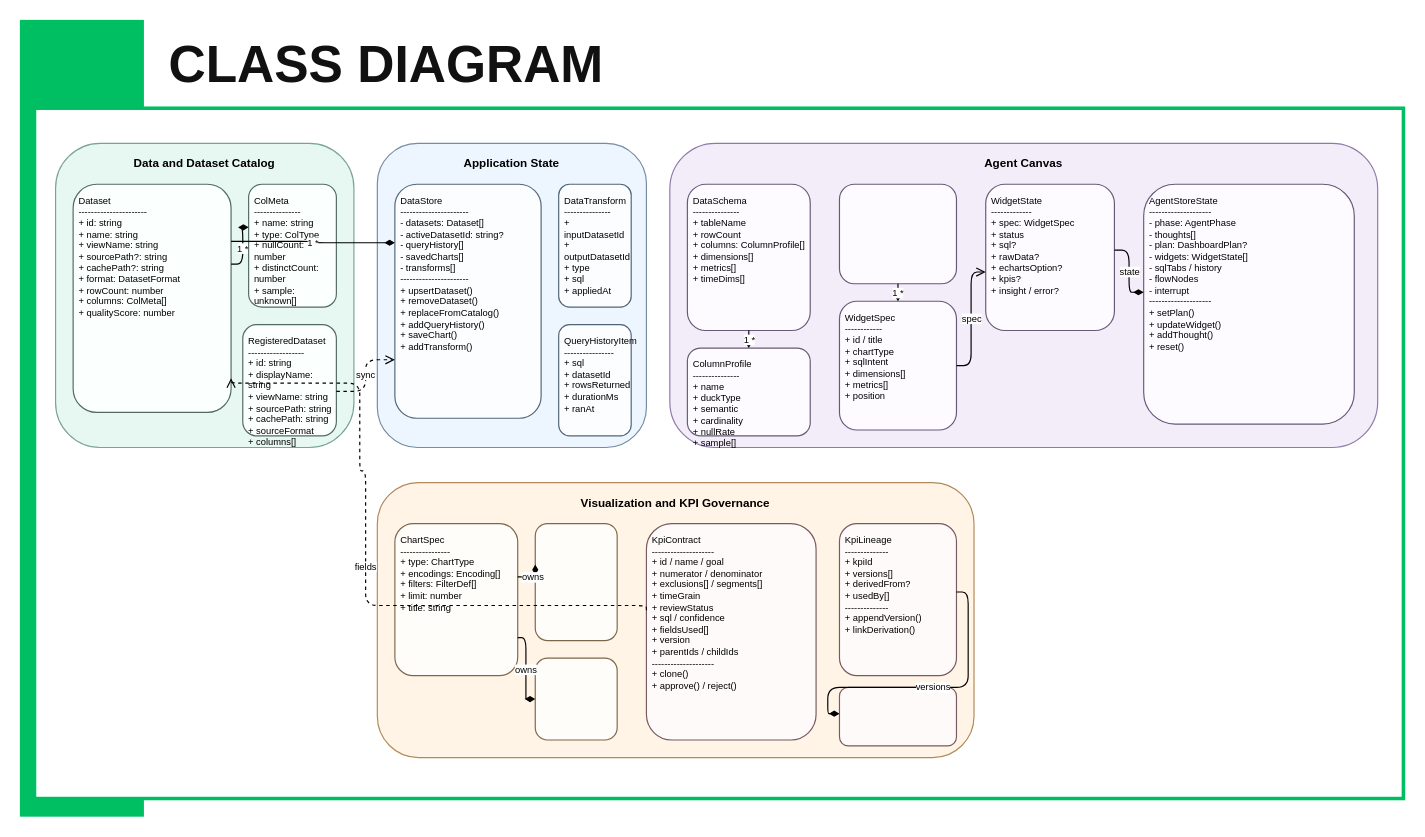
This 1425x837 diagram has some shape labels left out. The centre of each missing label's shape, as x and y in pixels:
"DashboardPlan ---------------- + title + description + widgets: WidgetSpec[]" goes at point (897, 233).
"Encoding ----------- + channel + field + aggregate? + sort? + bin?" goes at point (575, 581).
"FilterDef ---------- + field + op + value" goes at point (575, 698).
"KpiVersion ------------ + version + changedAt + changedBy + diff[] + contract" goes at point (897, 716).
